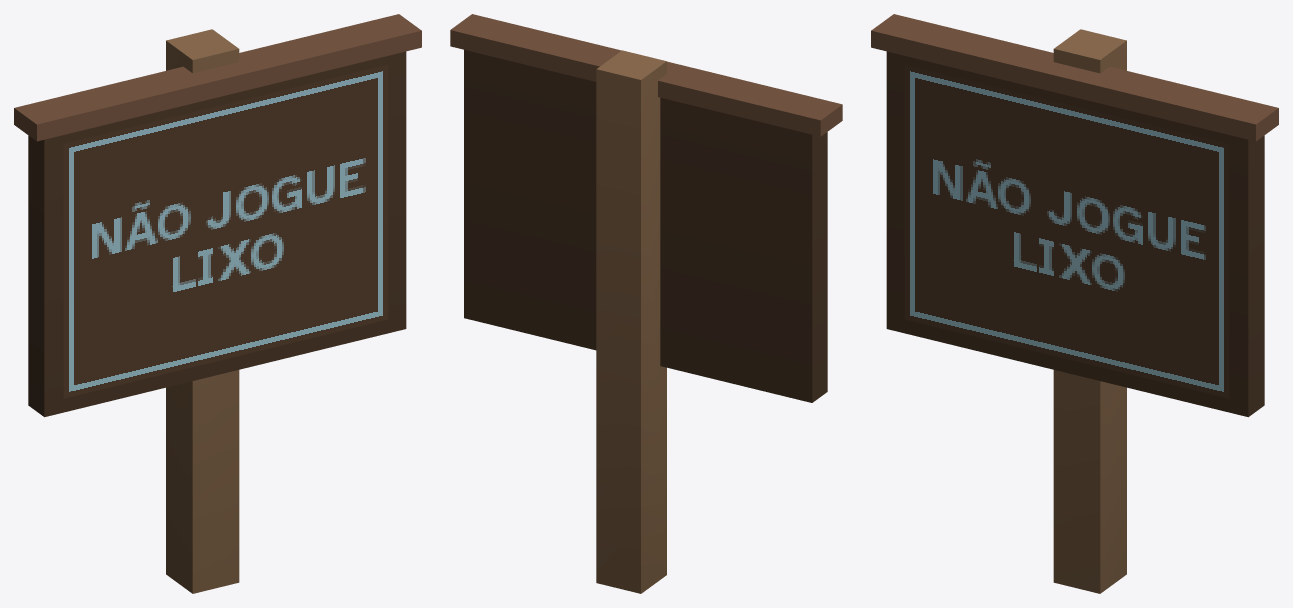
File: custom-placa-nao-jogue-lixo.glb
The picture shows the model from 3 angles, left to right: view 1: azimuth 30°, elevation 25°; view 2: azimuth 150°, elevation 25°; view 3: azimuth 330°, elevation 25°; orthographic projection. The views are drawn at different scales.
Parts seen in each view (by area): view 1: placa-nao-jogue-lixo; view 2: placa-nao-jogue-lixo; view 3: placa-nao-jogue-lixo.
Boxes of the visible parts, x1=… form: placa-nao-jogue-lixo: x1=14, y1=14, x2=421, y2=593; placa-nao-jogue-lixo: x1=450, y1=14, x2=842, y2=593; placa-nao-jogue-lixo: x1=871, y1=14, x2=1278, y2=593.
Bounding box in the file's own units: 1.66 × 2.2 × 0.3.
Materials: 2 (1 with a texture image).
